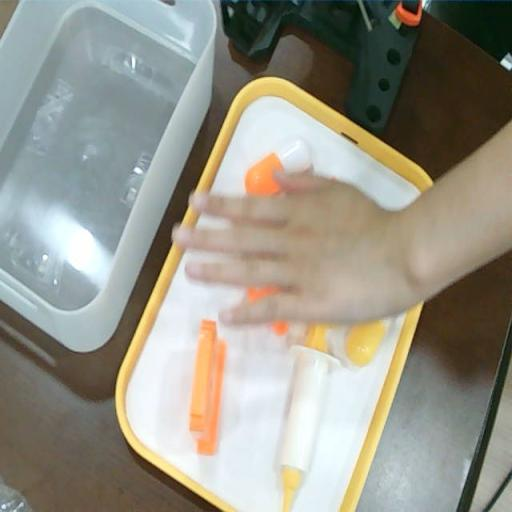hospital: (169, 170, 427, 322)
